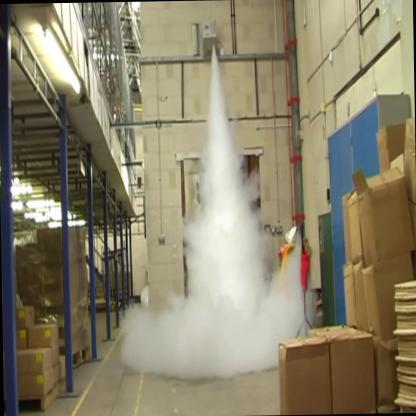smoke: (181, 65, 272, 304), (119, 285, 313, 384)
